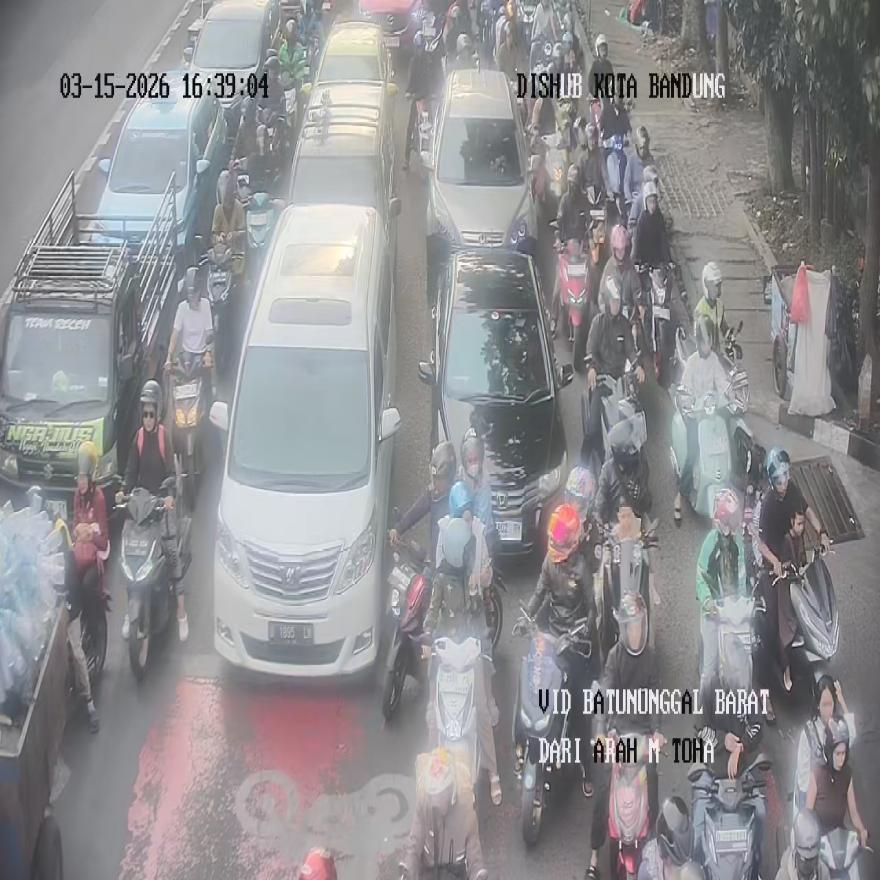Motor: (208, 202, 400, 680), (0, 167, 180, 516), (418, 246, 572, 558), (90, 68, 228, 282), (420, 69, 533, 278), (182, 0, 284, 145)
Truk: (514, 605, 594, 846), (116, 476, 193, 680), (758, 536, 840, 708), (670, 383, 762, 529), (688, 728, 770, 880), (429, 633, 499, 807), (697, 590, 761, 772), (398, 748, 485, 879), (382, 512, 431, 721), (606, 724, 666, 878), (163, 332, 214, 511), (593, 369, 651, 526), (594, 518, 658, 660), (66, 550, 109, 731), (776, 797, 864, 880), (552, 225, 590, 365), (202, 241, 239, 374), (635, 262, 674, 386), (603, 132, 641, 230), (536, 132, 570, 220), (245, 192, 274, 285), (584, 184, 605, 266)
